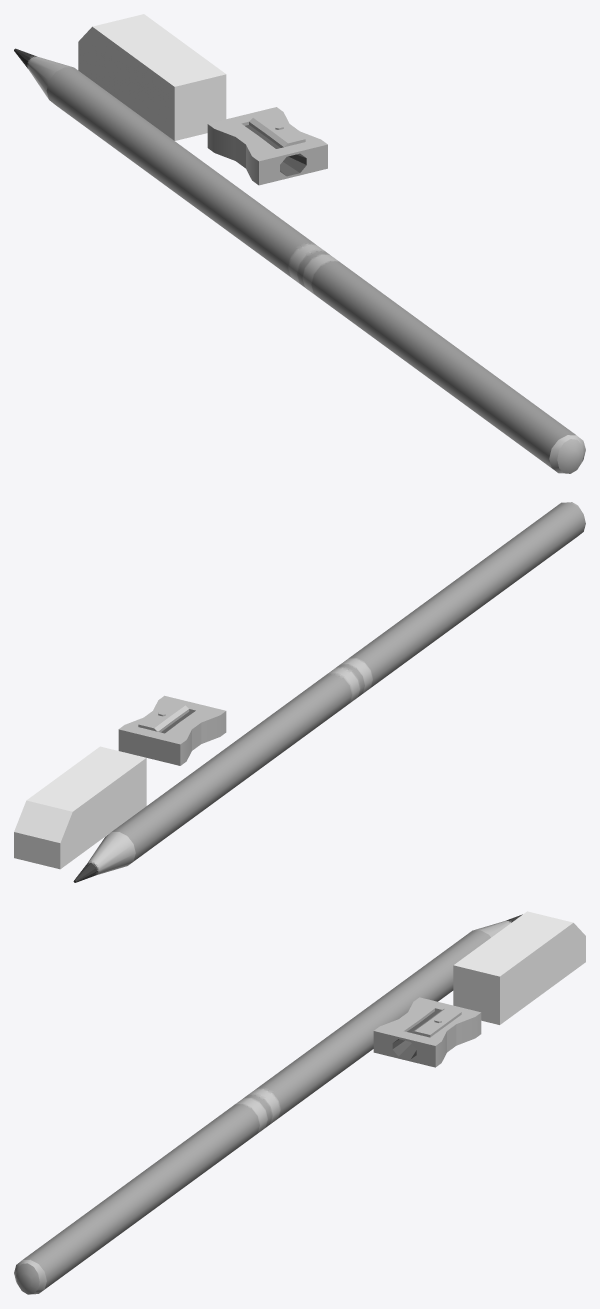
Rendered from Lápis + Aguça + Borracha.FBX.
3 views of the same model, one above another, from view 1: azimuth 30°, elevation 25°; view 2: azimuth 150°, elevation 25°; view 3: azimuth 330°, elevation 25° (orthographic). The views are drawn at different scales.
Visible parts, largest first — view 1: ChamferCyl006, Box006, Box009; view 2: ChamferCyl006, Box006, Box009; view 3: ChamferCyl006, Box006, Box009.
Boxes of the visible parts, x1,y1,x2,y2 form: ChamferCyl006: (14,48,585,473); Box006: (78,14,226,140); Box009: (207,107,327,185); ChamferCyl006: (73,502,585,882); Box006: (14,746,146,869); Box009: (118,695,226,765); ChamferCyl006: (14,914,522,1294); Box006: (453,911,585,1024); Box009: (373,997,481,1067).
Bounding box in the file's own units: 24.07 × 11.13 × 186.
